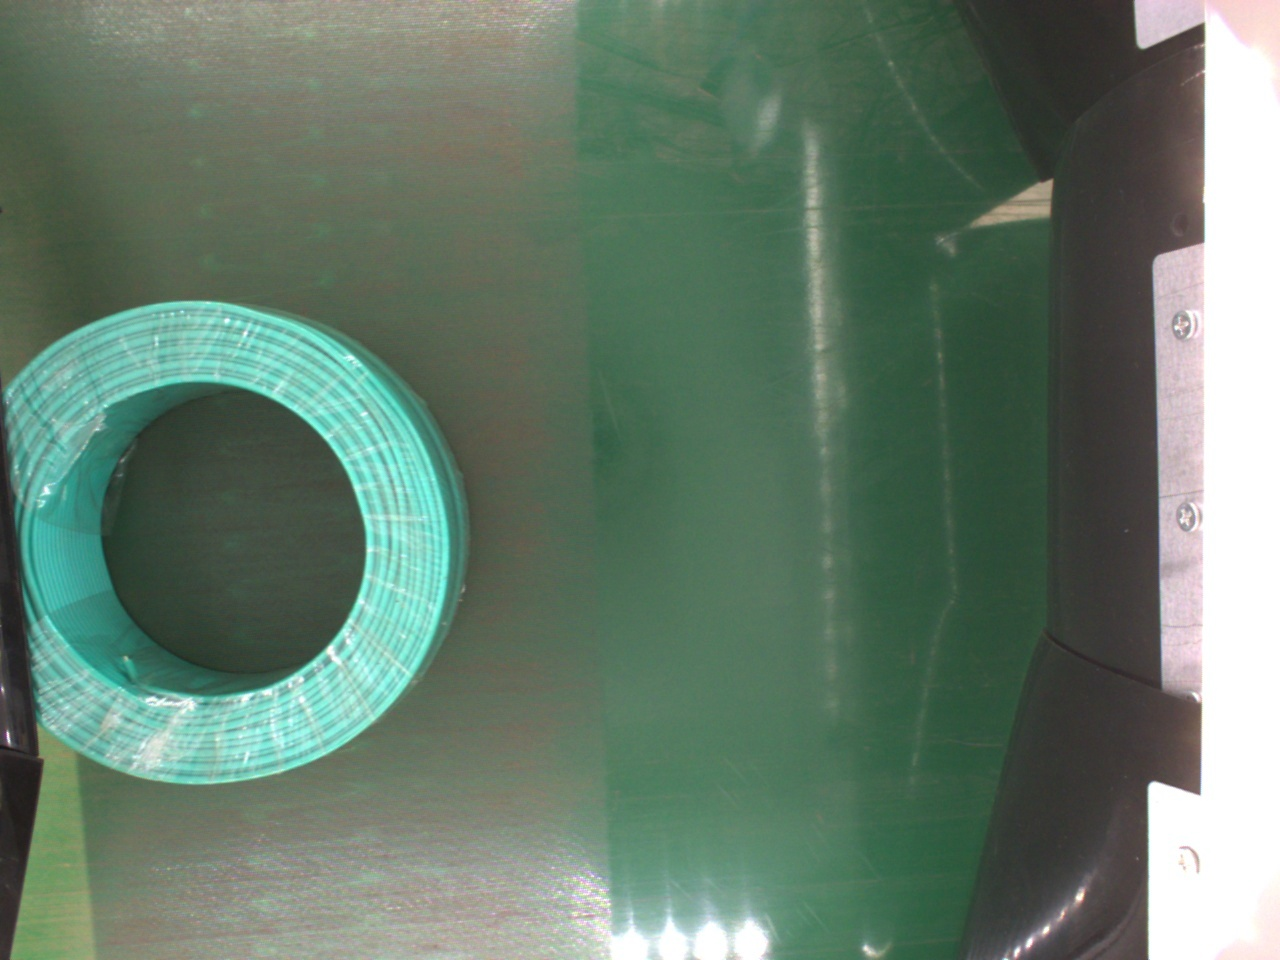green: (7, 301, 467, 789)
